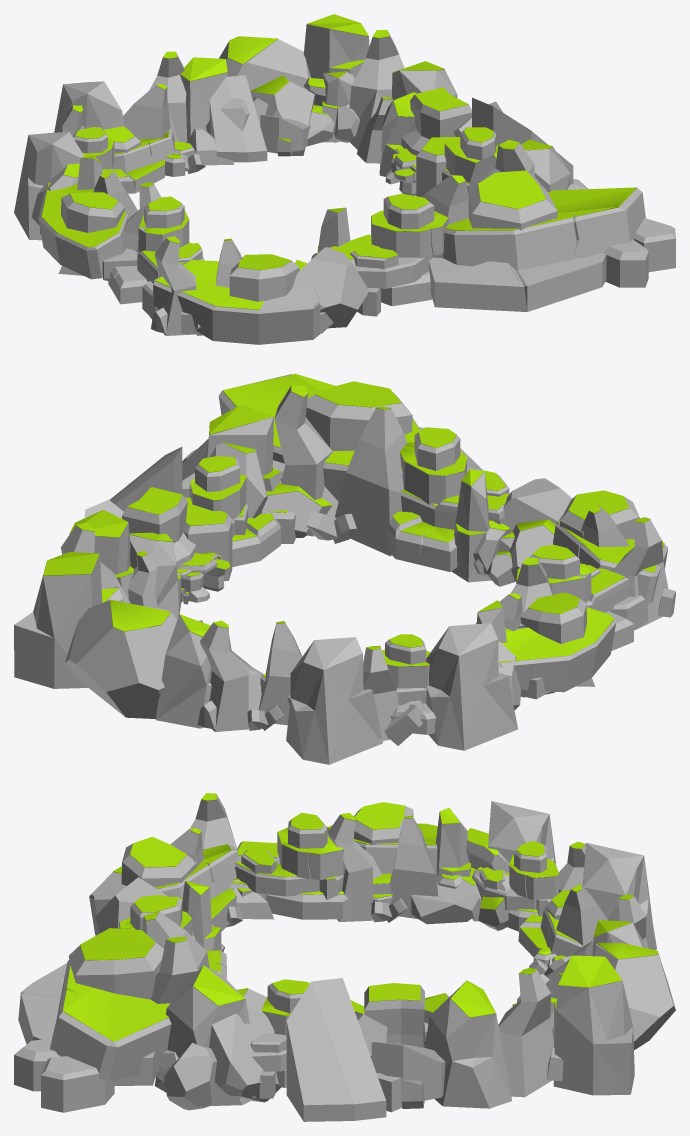
File: rock_grass.fbx
3 views of the same model, one above another, from view 1: azimuth 30°, elevation 25°; view 2: azimuth 150°, elevation 25°; view 3: azimuth 270°, elevation 25° (orthographic). The views are drawn at different scales.
Parts seen in each view (by area): view 1: Rock_Type1_02__3_.001; view 2: Rock_Type1_02__3_.001; view 3: Rock_Type1_02__3_.001.
Boxes of the visible parts, bbox=[...] form: Rock_Type1_02__3_.001: bbox=[14, 14, 675, 344]; Rock_Type1_02__3_.001: bbox=[14, 373, 675, 764]; Rock_Type1_02__3_.001: bbox=[14, 793, 675, 1121].
Bounding box in the file's own units: 10676 × 2676 × 11591.
